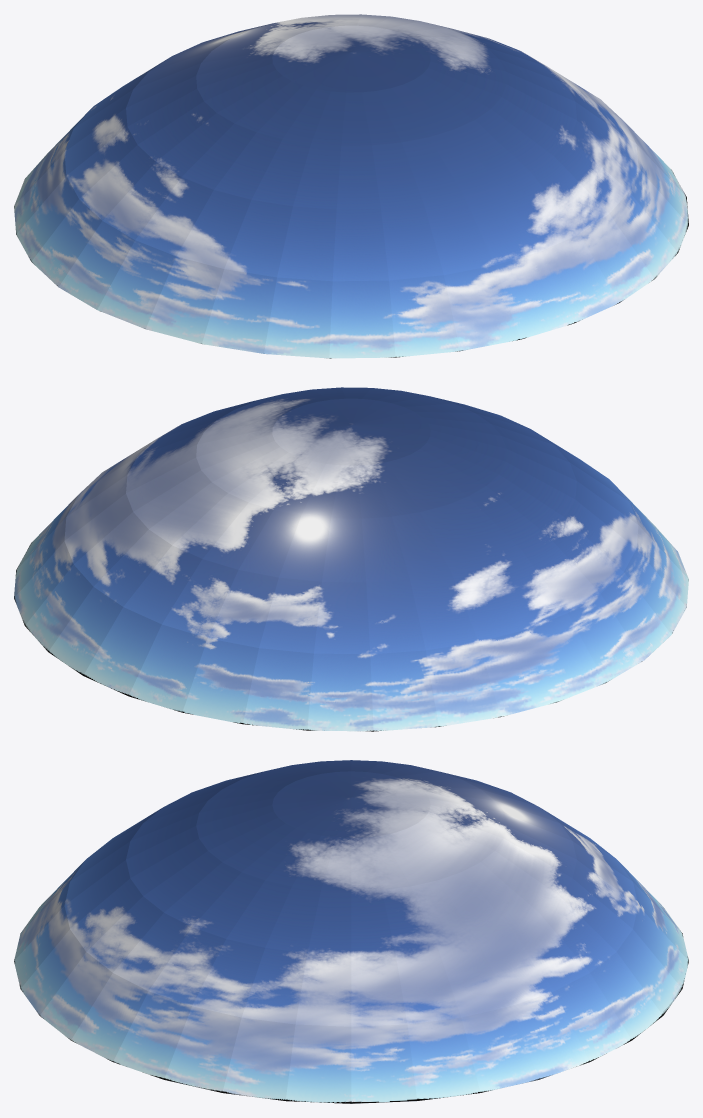
The model's file is Cer1.obj.
The picture shows the model from 3 angles, top to bottom: view 1: azimuth 30°, elevation 25°; view 2: azimuth 150°, elevation 25°; view 3: azimuth 270°, elevation 25°; orthographic projection.
Parts seen in each view (by area): view 1: Sphere_Sphere.002; view 2: Sphere_Sphere.002; view 3: Sphere_Sphere.002.
Part boxes in pixels (bbox=[...]): Sphere_Sphere.002: bbox=[14, 14, 688, 358]; Sphere_Sphere.002: bbox=[14, 387, 688, 731]; Sphere_Sphere.002: bbox=[14, 760, 688, 1103].
Bounding box in the file's own units: 150 × 40.06 × 150.
